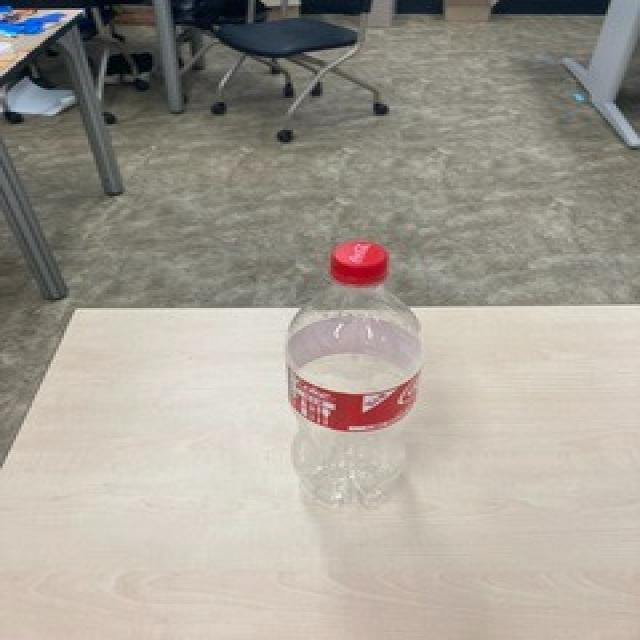bottle: (278, 234, 431, 516)
